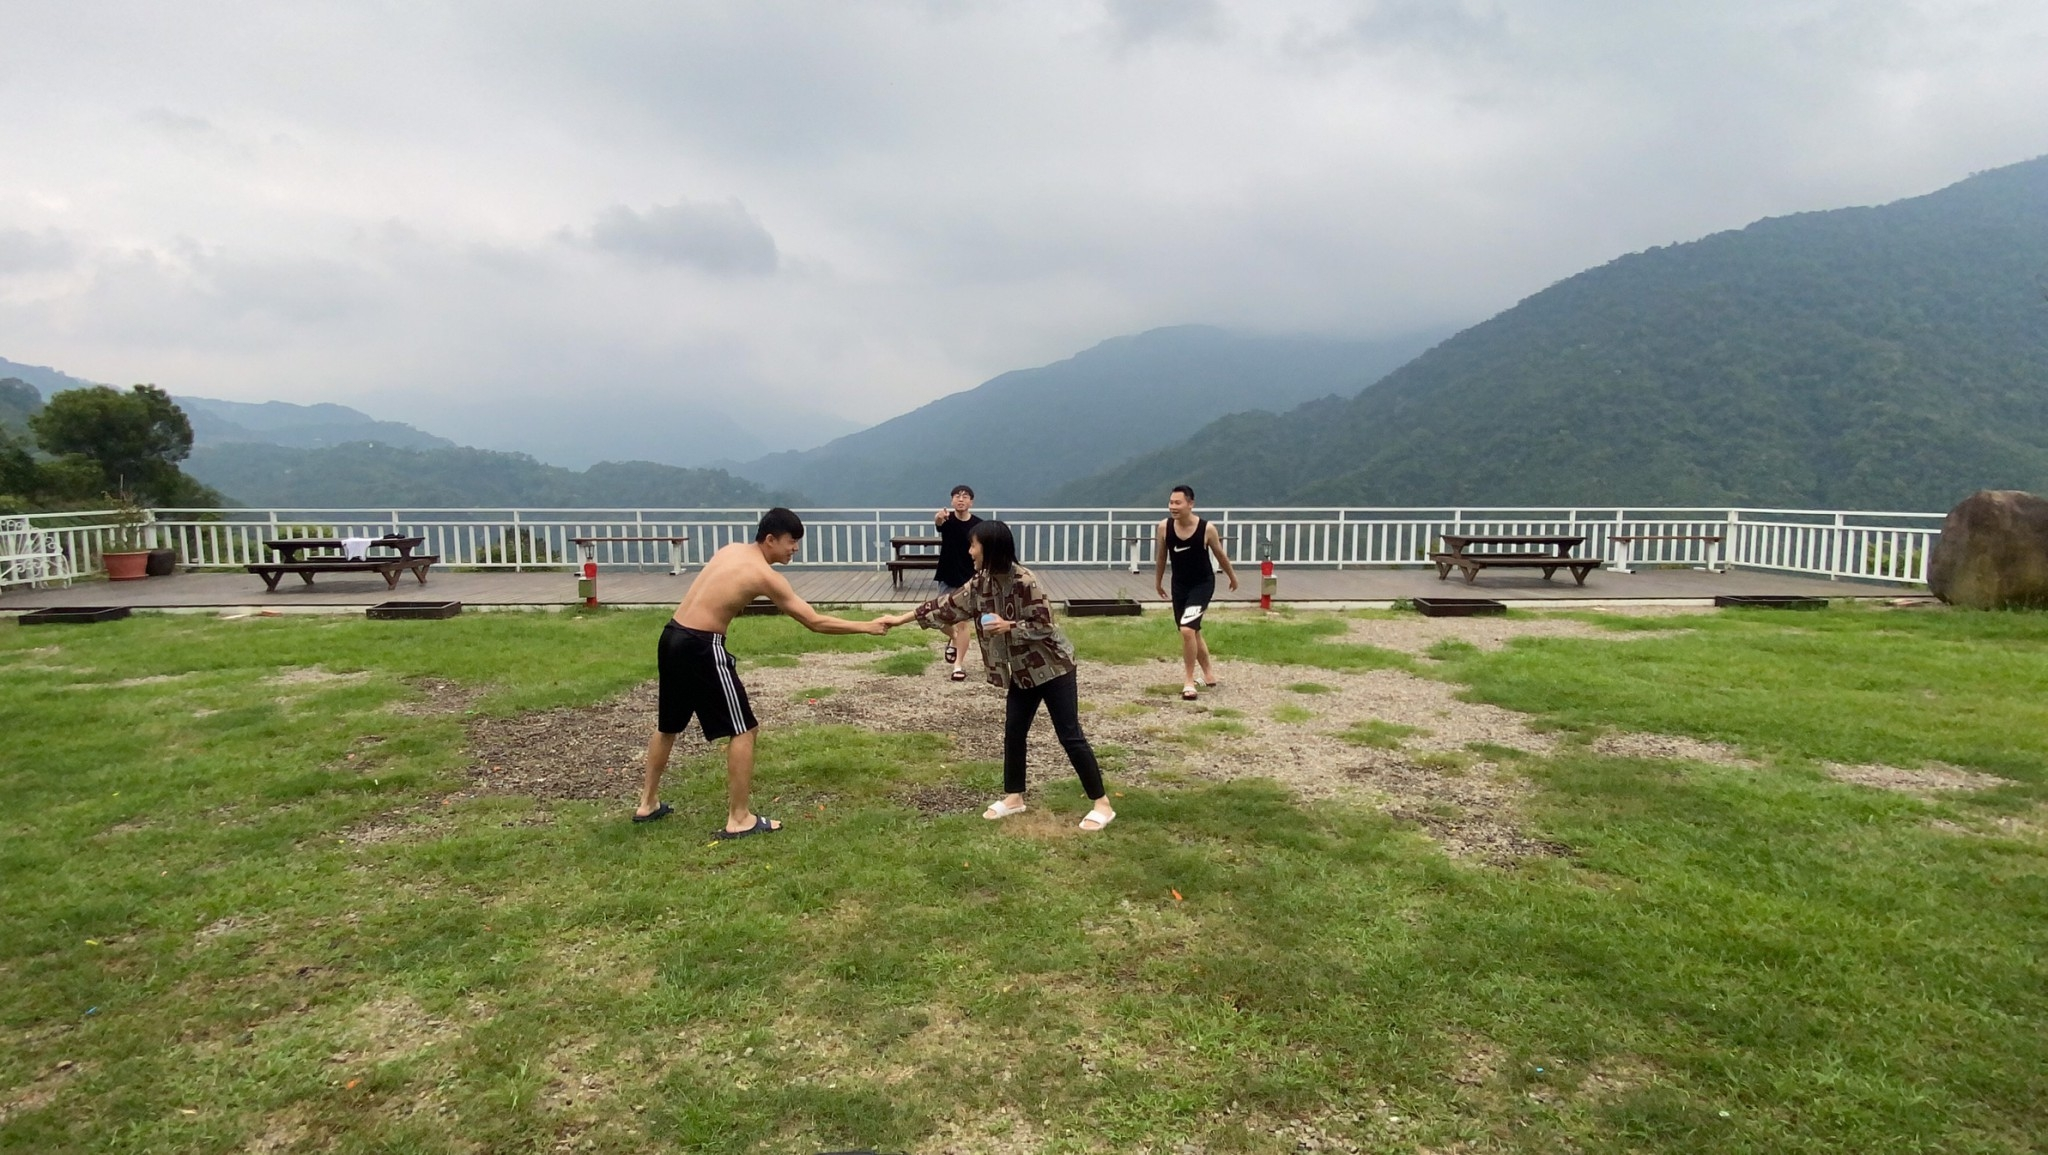people: (928, 525, 1119, 828), (652, 511, 787, 828), (1143, 484, 1228, 690), (928, 475, 999, 678)
